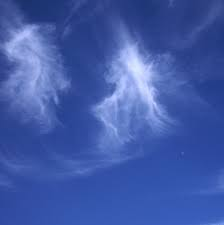Cirrus: (88, 11, 191, 160), (4, 7, 75, 144)
